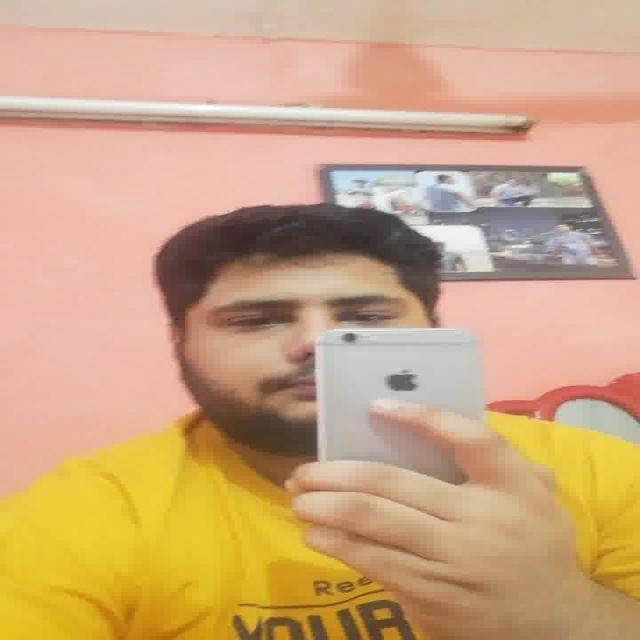Phone: (312, 322, 488, 478)
